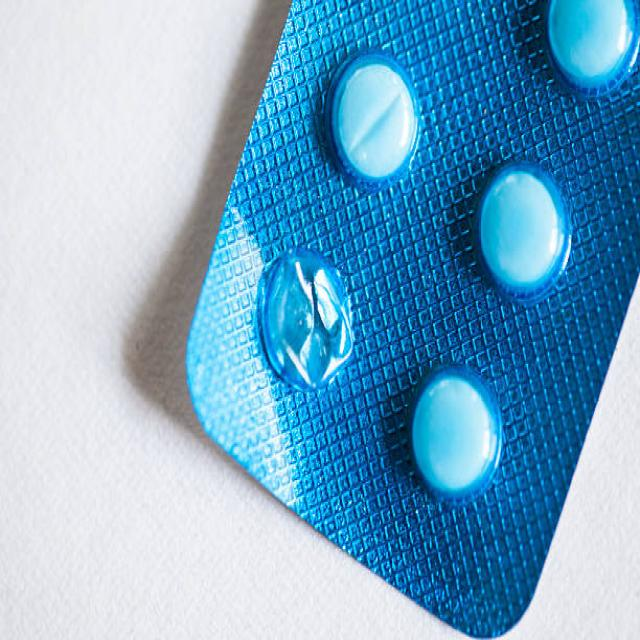Empty: (243, 225, 364, 408)
Pill: (316, 23, 434, 202), (394, 358, 514, 512), (472, 140, 579, 308), (530, 0, 640, 100)
